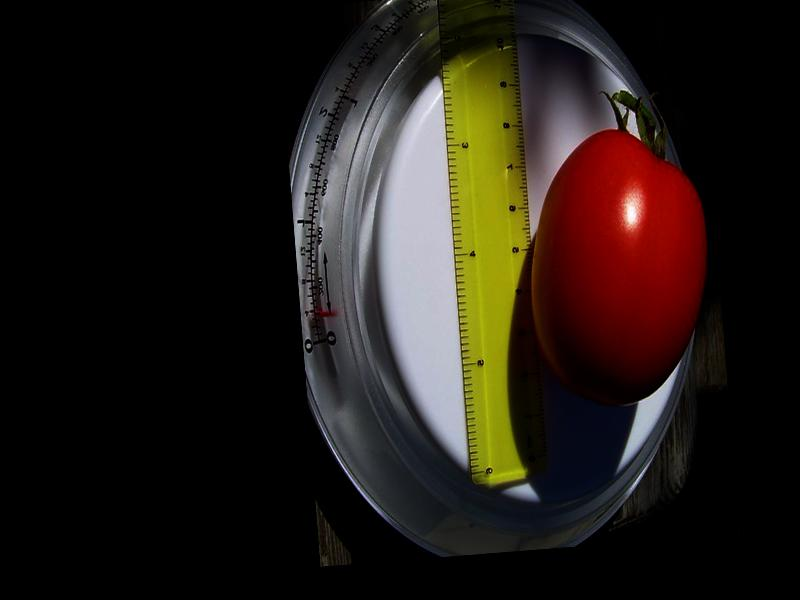Tomato: (513, 121, 720, 410)
